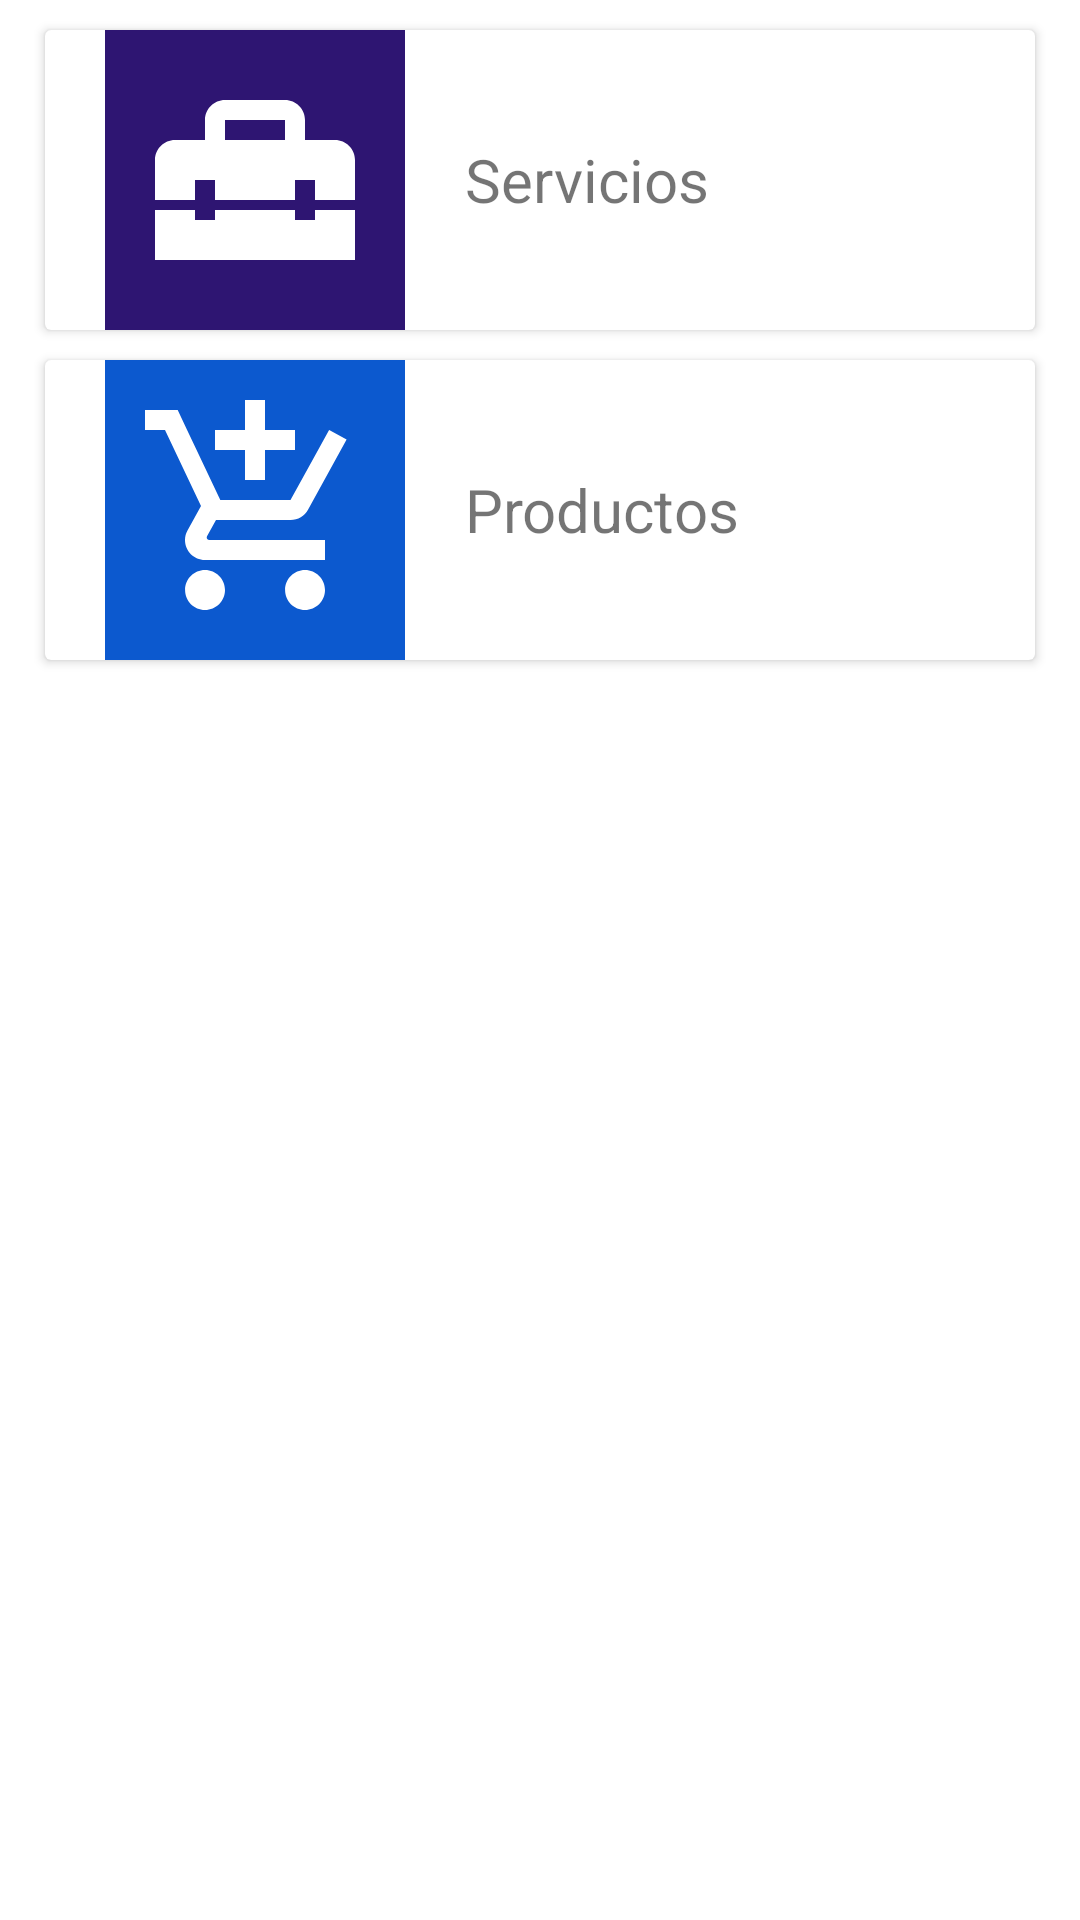

Screen size 1080 × 1920. Icon name, then its box in pixels as (x1, y1, x2, y2):
service: (105, 30, 405, 330)
